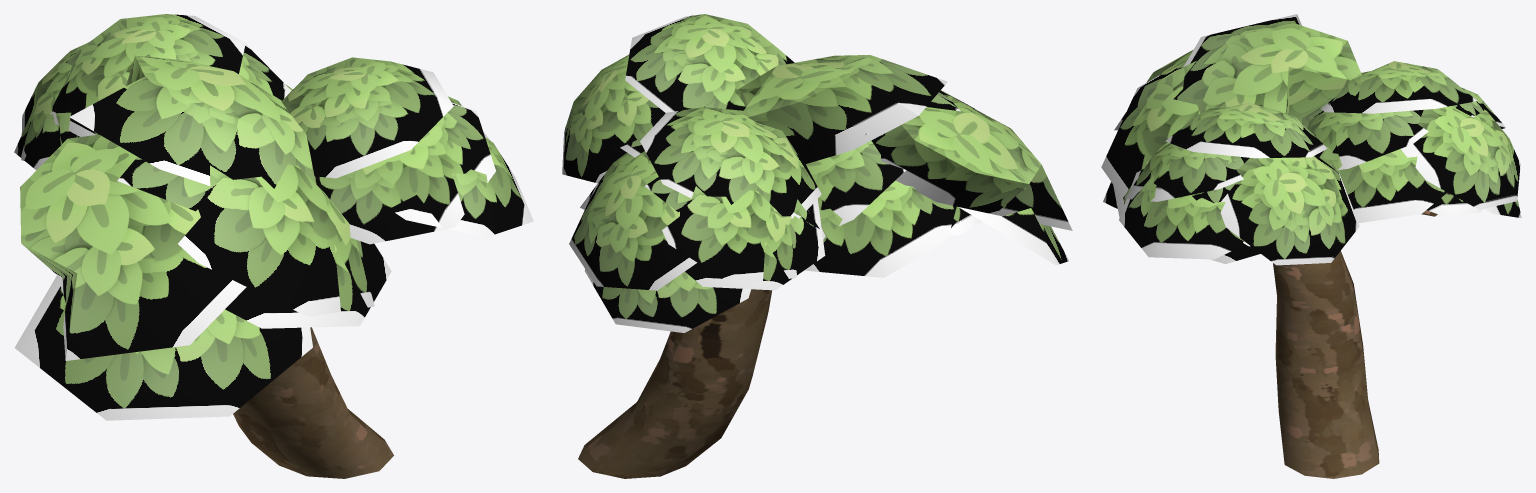
Rendered from Tree1_2.gltf.
3 renders of one model, left to right at view 1: azimuth 30°, elevation 25°; view 2: azimuth 150°, elevation 25°; view 3: azimuth 270°, elevation 25°, orthographic. The views are drawn at different scales.
Visible parts, largest first — view 1: Tree_2; view 2: Tree_2; view 3: Tree_2.
Boxes of the visible parts, left/top/right/bottom form: Tree_2: left=14, top=14, right=533, bottom=478; Tree_2: left=562, top=14, right=1072, bottom=478; Tree_2: left=1101, top=14, right=1521, bottom=478.
Bounding box in the file's own units: 6.64 × 5.69 × 6.13.
Materials: 2 (2 with a texture image).
